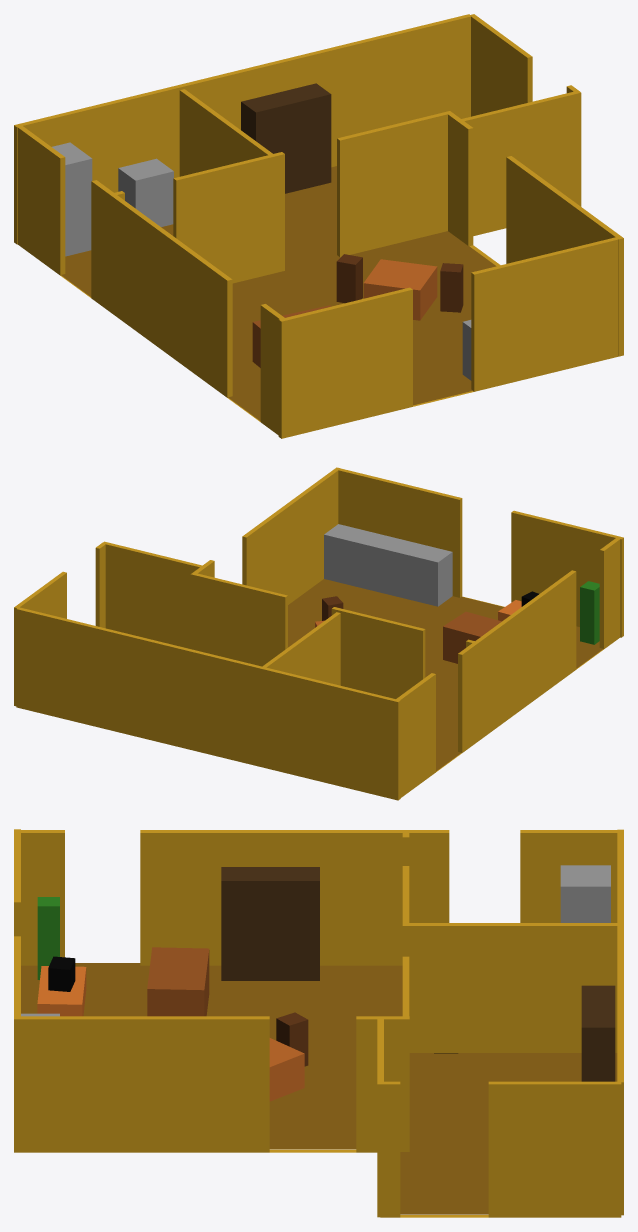
Rendered from House_gamejam.fbx.
The picture shows the model from 3 angles, top to bottom: view 1: azimuth 30°, elevation 25°; view 2: azimuth 150°, elevation 25°; view 3: azimuth 270°, elevation 25°; orthographic projection. The views are drawn at different scales.
Visible parts, largest first — view 1: Wall.052; view 2: Wall.052; view 3: Wall.052.
Boxes of the visible parts, bbox=[...] form: Wall.052: bbox=[14, 14, 623, 438]; Wall.052: bbox=[14, 467, 623, 800]; Wall.052: bbox=[14, 829, 623, 1217].
Size of the model in its own units: 1075 by 266 by 1087.
